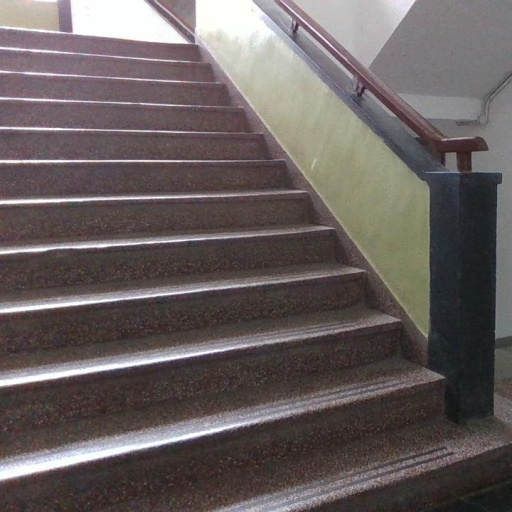Stairs: (0, 28, 512, 512)
